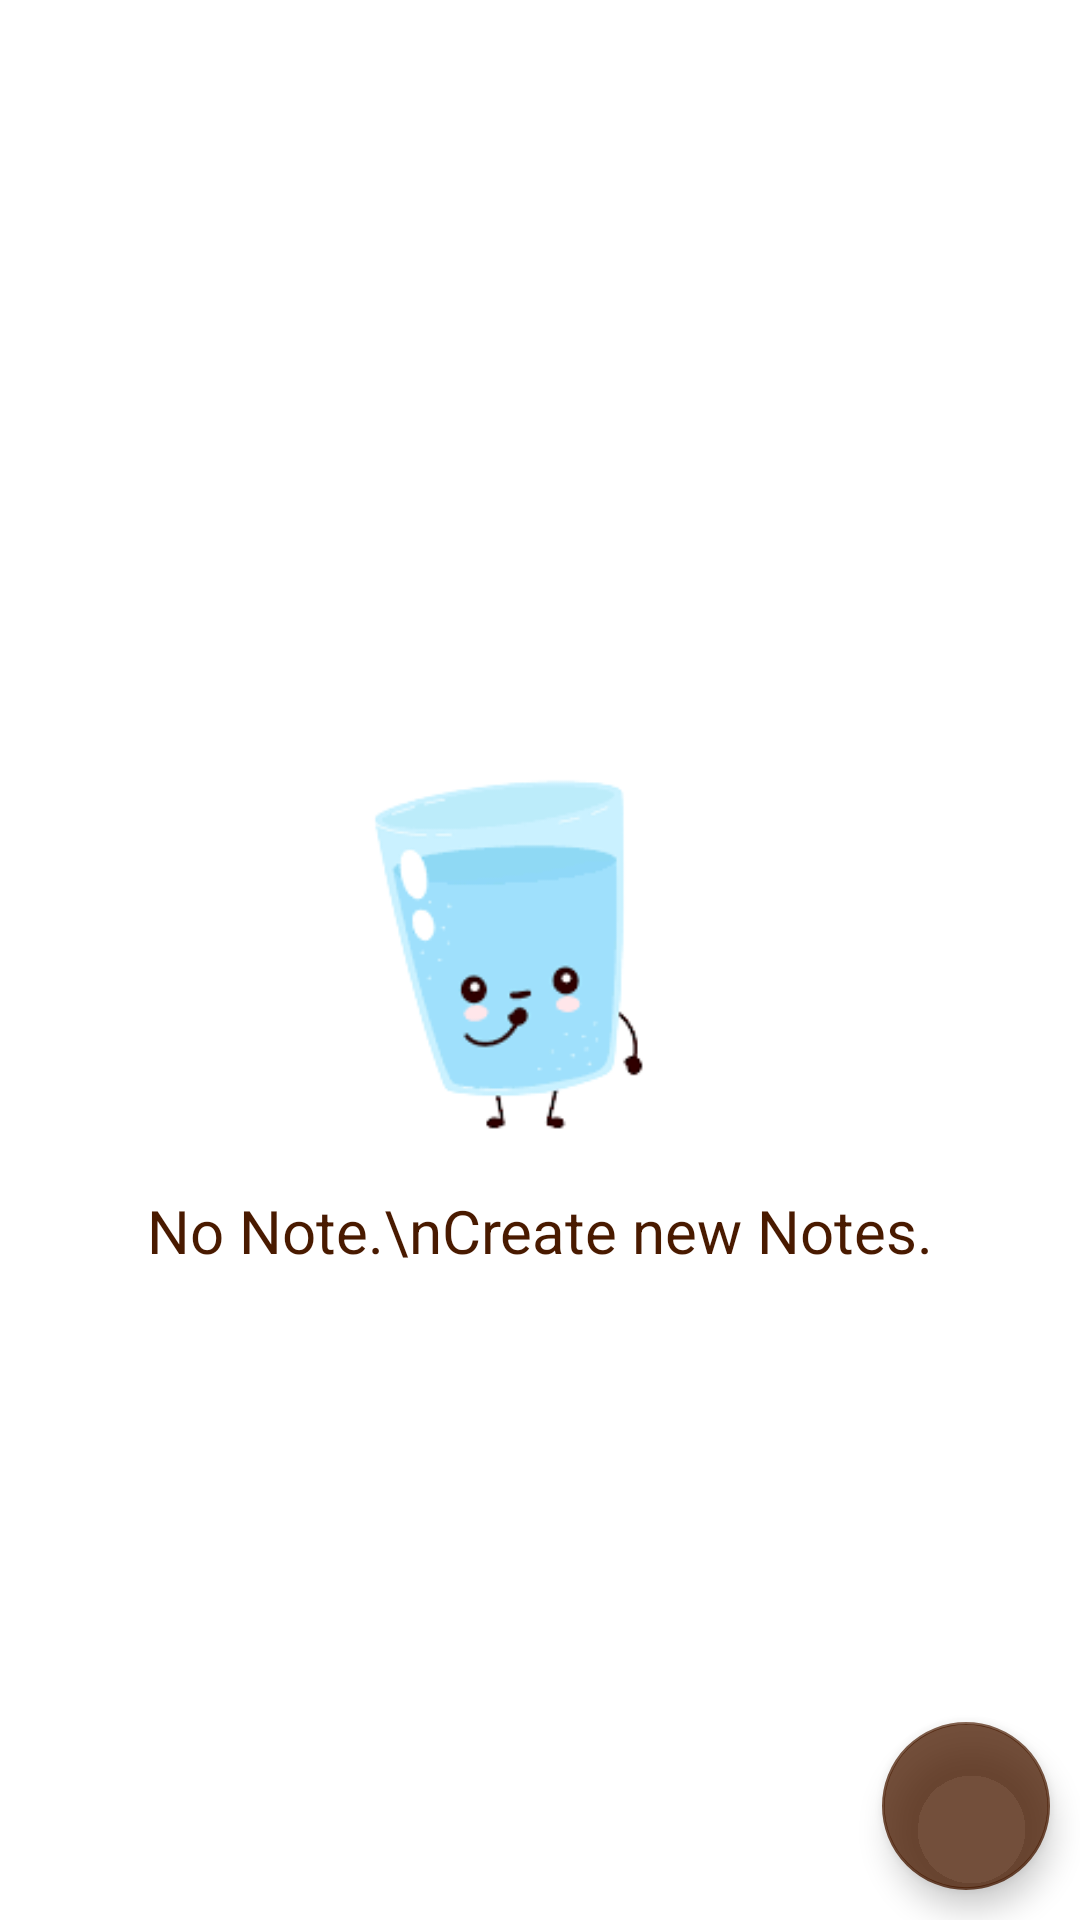

Screen size 1080w x 1920h. Icon name, then its box in pixels as (x1, y1, x2, y2):
empty task image: (375, 781, 643, 1129)
